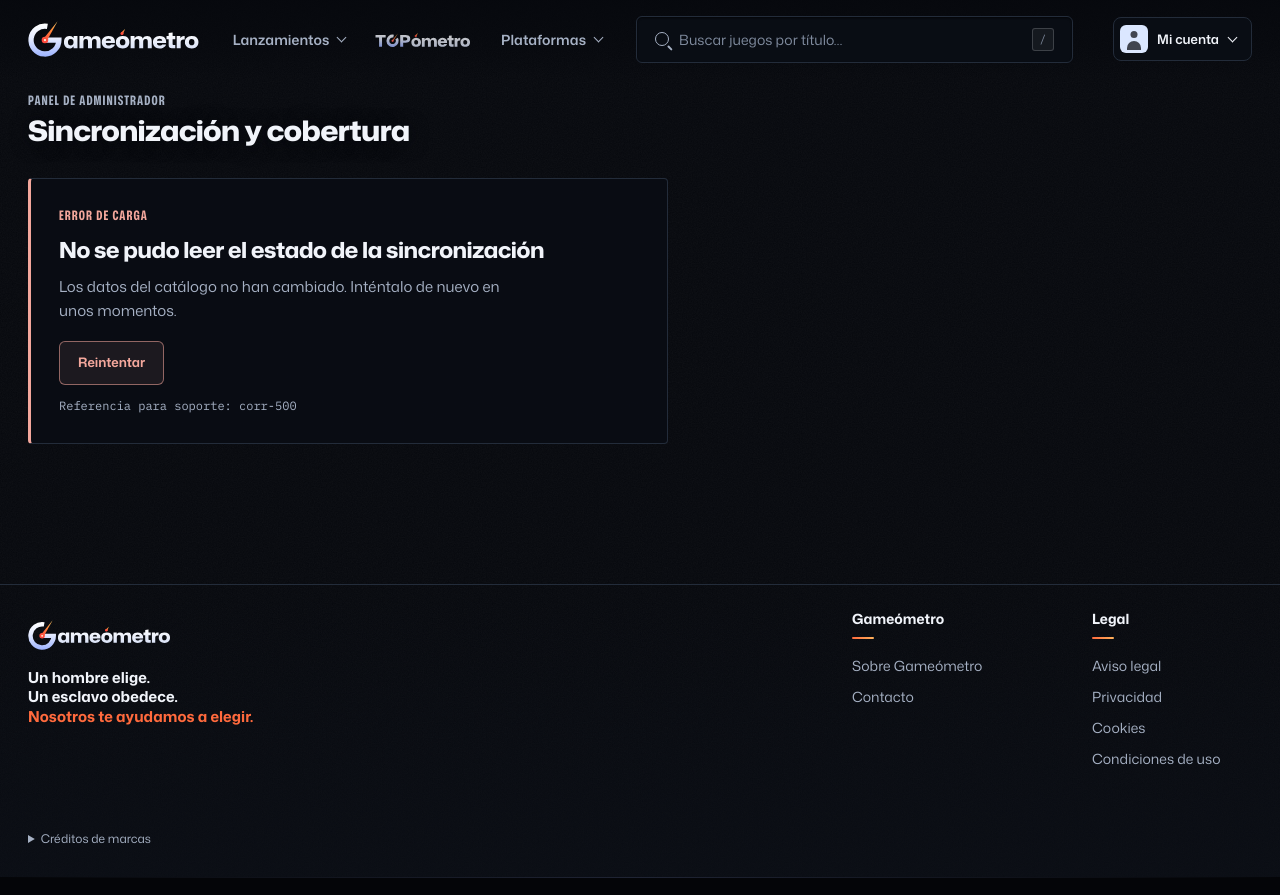
Scenario: Catalogue administration › keeps a technical failure safe and recoverable
This screenshot has width=1280, height=895.
Expected: the message shows "No se pudo leer el estado de la sincronización", left=59, top=234, right=544, bottom=266
Expected: the message shows "corr-500", left=239, top=398, right=297, bottom=413
What coordinates should you click on to do the following:
click the button "Reintentar"
I would click on:
 (112, 363)
Its box is left=59, top=341, right=164, bottom=385.
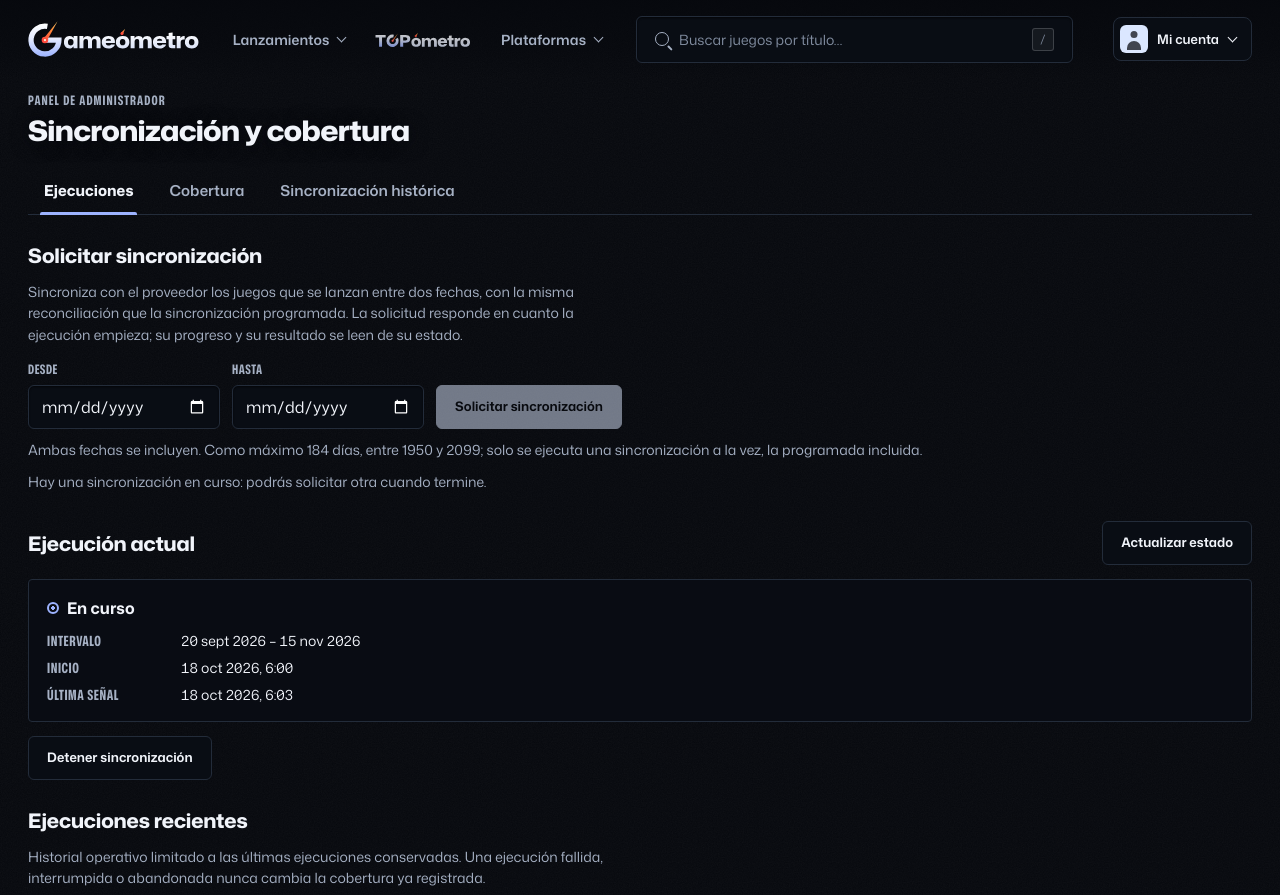
Expected: the element "Ejecución actual" is shown, left=28, top=521, right=1252, bottom=780
